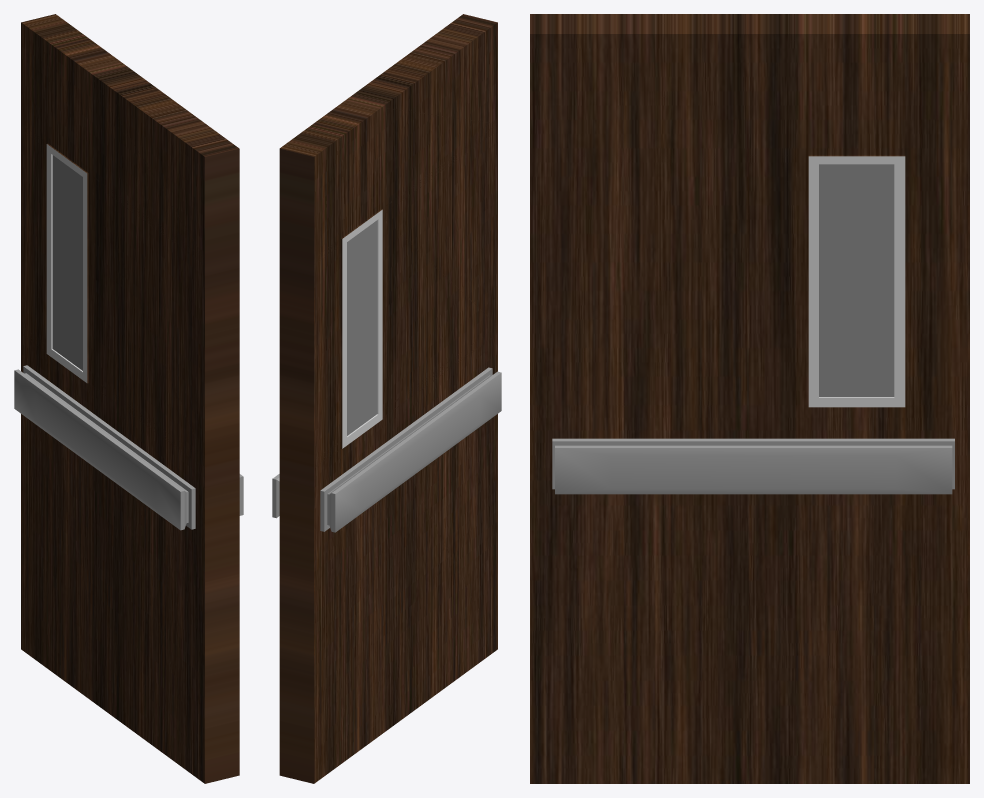
Rendered from Woodent E Door with handles.fbx.
3 views of the same model, side by side, from view 1: azimuth 30°, elevation 25°; view 2: azimuth 150°, elevation 25°; view 3: azimuth 270°, elevation 25° (orthographic). The views are drawn at different scales.
Visible parts, largest first — view 1: Wooden_E_Door, door_handle1; view 2: Wooden_E_Door, door_handle1; view 3: Wooden_E_Door, door_handle.
Part boxes in pixels (x1,y1,x2,y2): Wooden_E_Door: [21, 14, 239, 783]; door_handle1: [14, 365, 195, 530]; Wooden_E_Door: [279, 14, 497, 783]; door_handle1: [320, 367, 501, 532]; Wooden_E_Door: [530, 14, 969, 783]; door_handle: [552, 438, 954, 494].
Size of the model in its own units: 2.64 by 23.6 by 12.54.
4 materials, 1 textured.
